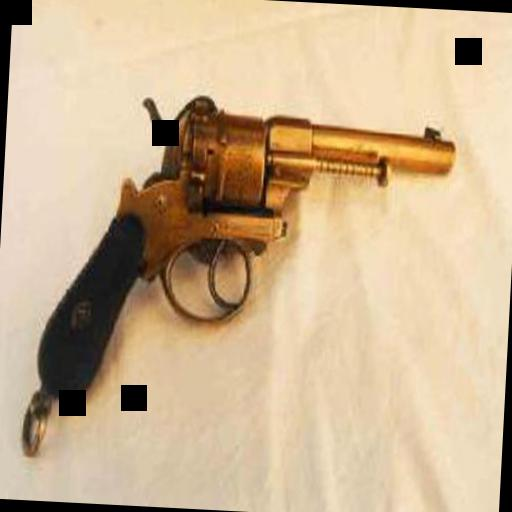Handgun: (34, 81, 456, 419)
